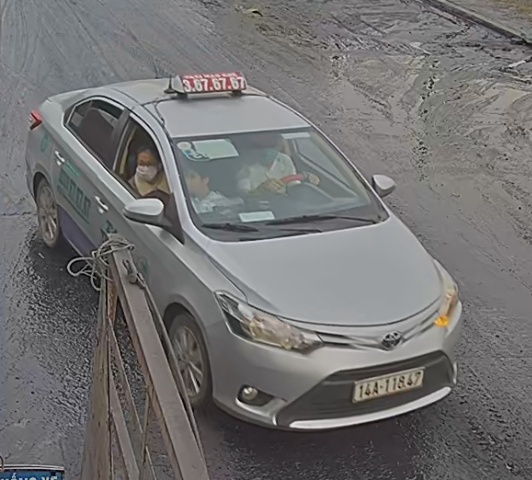vehicle plate: (344, 367, 433, 402)
